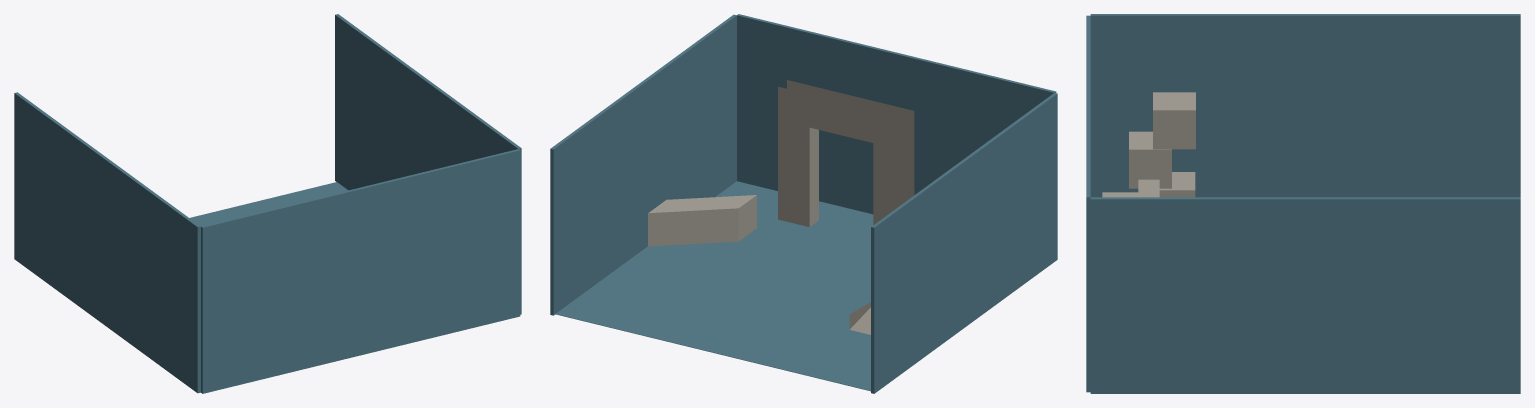
Rendered from Room.fbx.
3 renders of one model, left to right at view 1: azimuth 30°, elevation 25°; view 2: azimuth 150°, elevation 25°; view 3: azimuth 270°, elevation 25°, orthographic. The views are drawn at different scales.
Visible parts, largest first — view 1: Cube, Cube__1_, Cube_1, Floor__1_; view 2: Cube__1_, Cube_1, Cube, Floor__1_, Door, Floor, Floor__3_, Cube_3, Floor__2_, Cone; view 3: Cube_1, Cube__1_, Cube__2_, Cube__1__1, Cube, Cube_2, Door.
Part boxes in pixels (x1=…): Cube: x1=201, y1=149, x2=520, y2=393; Cube__1_: x1=14, y1=92, x2=200, y2=393; Cube_1: x1=335, y1=14, x2=521, y2=314; Floor__1_: x1=190, y1=182, x2=347, y2=226; Cube__1_: x1=871, y1=93, x2=1057, y2=393; Cube_1: x1=550, y1=14, x2=736, y2=315; Cube: x1=737, y1=14, x2=1056, y2=214; Floor__1_: x1=555, y1=247, x2=805, y2=352; Door: x1=778, y1=80, x2=914, y2=227; Floor: x1=714, y1=286, x2=870, y2=391; Floor__3_: x1=647, y1=181, x2=873, y2=285; Cube_3: x1=648, y1=195, x2=756, y2=246; Floor__2_: x1=806, y1=238, x2=870, y2=301; Cone: x1=849, y1=302, x2=870, y2=334; Cube_1: x1=1090, y1=197, x2=1520, y2=393; Cube__1_: x1=1090, y1=14, x2=1520, y2=197; Cube__2_: x1=1153, y1=92, x2=1195, y2=149; Cube__1__1: x1=1129, y1=131, x2=1171, y2=188; Cube: x1=1086, y1=15, x2=1090, y2=391; Cube_2: x1=1159, y1=172, x2=1195, y2=197; Door: x1=1138, y1=179, x2=1159, y2=197.
Size of the model in its own units: 1020 by 500 by 1010.
